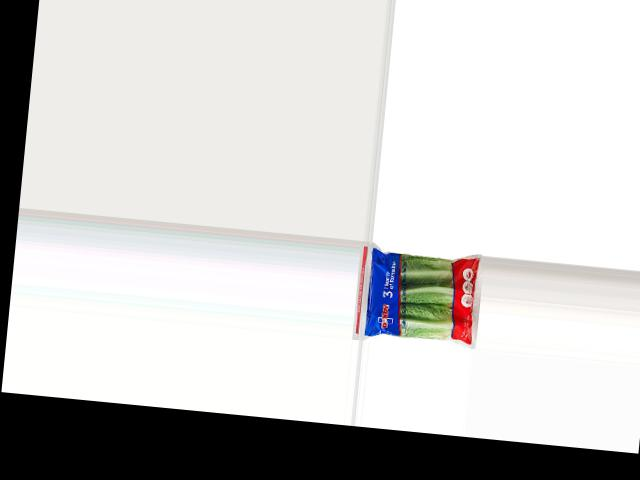lettuce: (358, 246, 484, 351)
